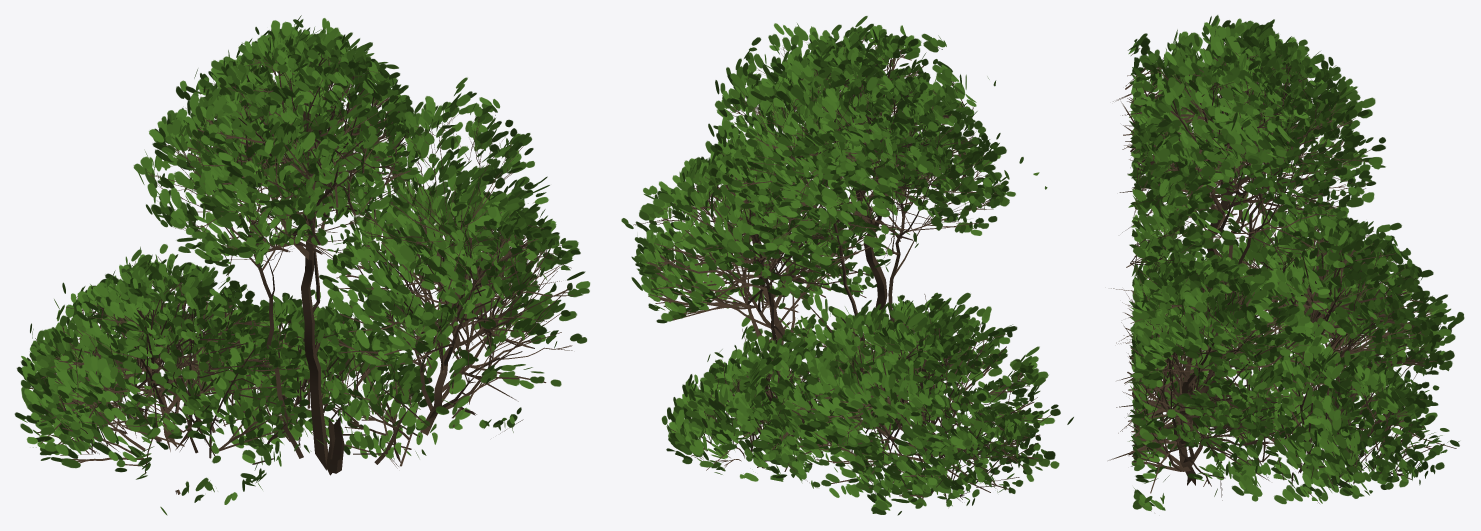
3 views of the same model, side by side, from view 1: azimuth 30°, elevation 25°; view 2: azimuth 150°, elevation 25°; view 3: azimuth 270°, elevation 25° (orthographic). The views are drawn at different scales.
Parts seen in each view (by area): view 1: oak 01.001_trunk_Mat.001_0.305; view 2: oak 01.001_trunk_Mat.001_0.305; view 3: oak 01.001_trunk_Mat.001_0.305.
Part boxes in pixels (bbox=[...]): oak 01.001_trunk_Mat.001_0.305: bbox=[14, 15, 590, 515]; oak 01.001_trunk_Mat.001_0.305: bbox=[621, 16, 1073, 515]; oak 01.001_trunk_Mat.001_0.305: bbox=[1108, 15, 1464, 511].
Bounding box in the file's own units: 3.96 × 3.34 × 2.57.
Materials: 2 (1 with a texture image).
